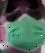with_mask: (1, 1, 45, 53)
